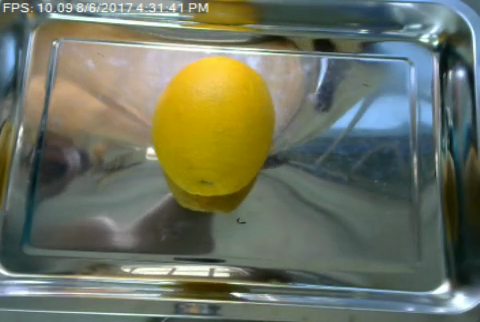Orange: (153, 56, 276, 194)
